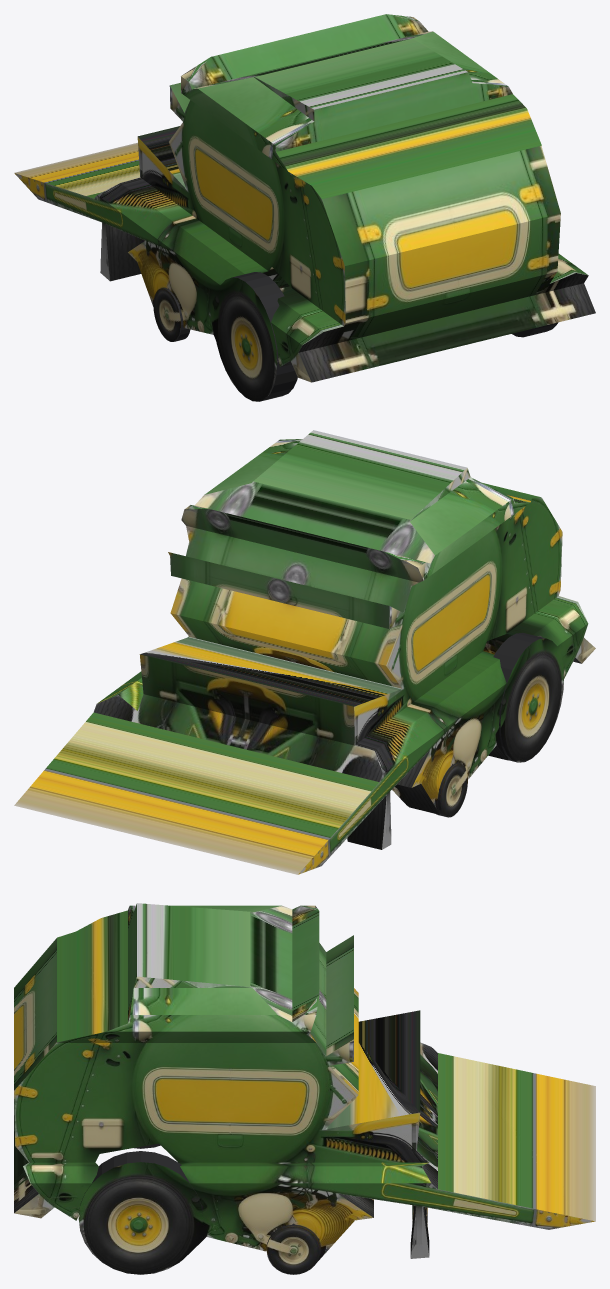
Rendered from hay_baler.glb.
3 renders of one model, top to bottom at view 1: azimuth 30°, elevation 25°; view 2: azimuth 150°, elevation 25°; view 3: azimuth 270°, elevation 25°, orthographic. The views are drawn at different scales.
Visible parts, largest first — view 1: hay_baler, wheel_BL, wheel_FL; view 2: hay_baler, wheel_BL, wheel_FL; view 3: hay_baler, wheel_BR, wheel_FR.
Part boxes in pixels (x1,y1,x2,y2): hay_baler: [14, 14, 595, 382]; wheel_BL: [213, 272, 297, 401]; wheel_FL: [153, 288, 190, 341]; hay_baler: [14, 430, 595, 874]; wheel_BL: [493, 632, 564, 762]; wheel_FL: [436, 763, 467, 817]; hay_baler: [14, 903, 595, 1262]; wheel_BR: [78, 1151, 202, 1274]; wheel_FR: [266, 1223, 320, 1274].
Size of the model in its own units: 2.78 by 2.52 by 4.99.
3 materials, 1 textured.
